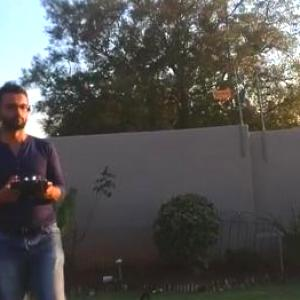follow: (1, 78, 72, 299)
